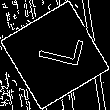L_W: (27, 34, 83, 76)
